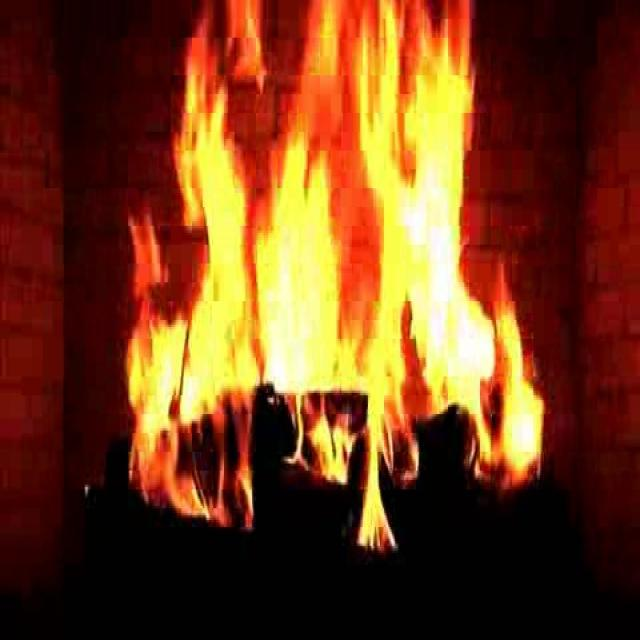fire: (157, 6, 526, 469)
